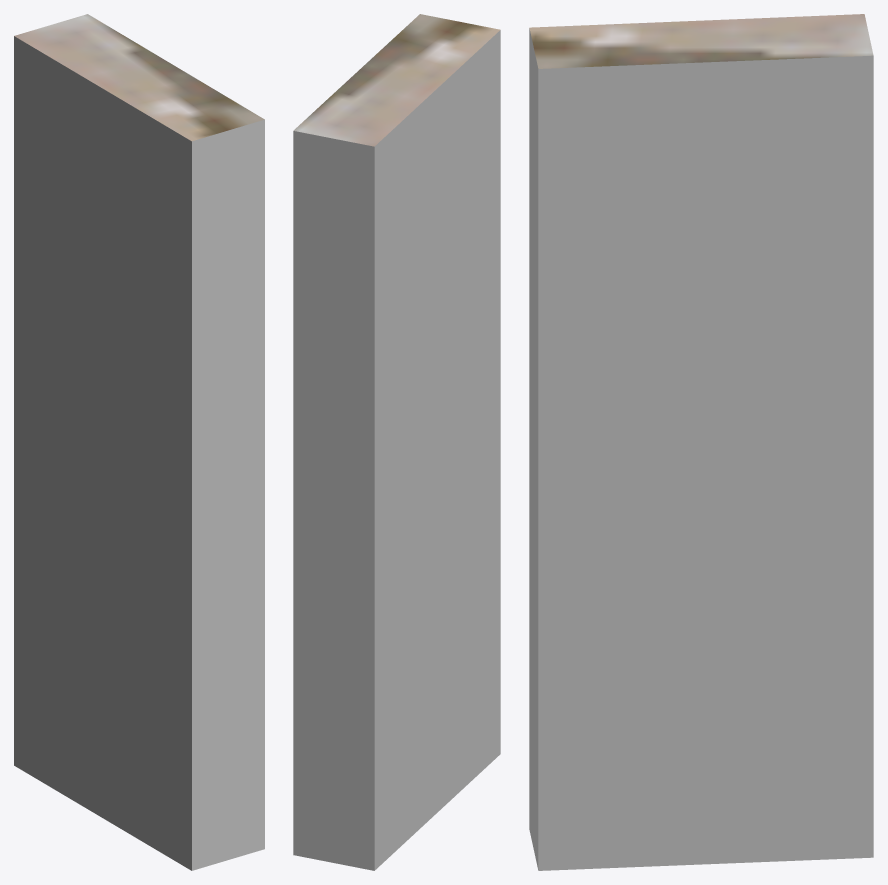
Rendered from DEBW_0010007THWN.gltf.
3 views of the same model, side by side, from view 1: azimuth 30°, elevation 25°; view 2: azimuth 150°, elevation 25°; view 3: azimuth 270°, elevation 25° (orthographic). The views are drawn at different scales.
Parts seen in each view (by area): view 1: Z_UP; view 2: Z_UP; view 3: Z_UP.
Boxes of the visible parts, <box> form: Z_UP: <box>14,14,264,870</box>; Z_UP: <box>293,14,500,870</box>; Z_UP: <box>529,14,873,870</box>.
Bounding box in the file's own units: 1.74 × 11.83 × 4.6.
Materials: 2 (1 with a texture image).
